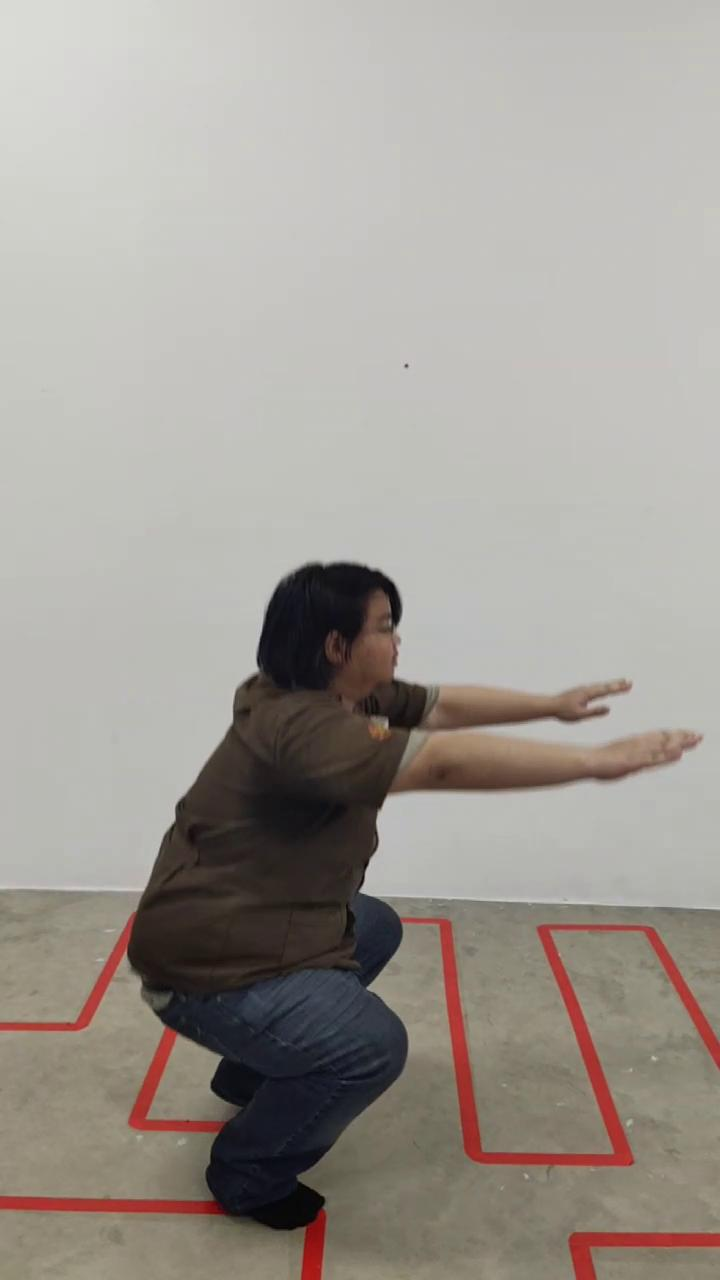squat down: (127, 562, 670, 1233)
